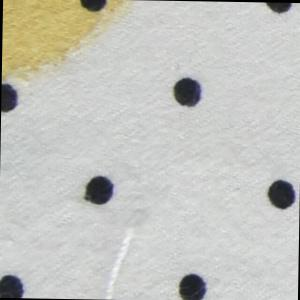Stain: (2, 1, 138, 89)
Wrinkle: (102, 213, 154, 300)
